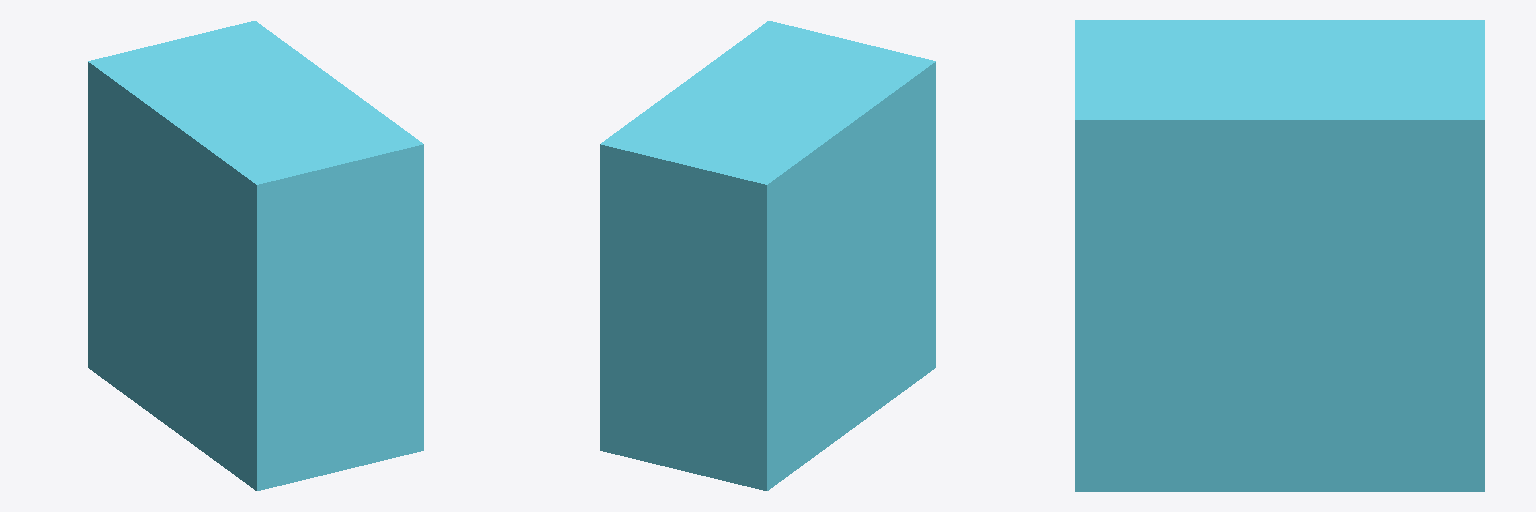
robot.urdf — panda:
<?xml version='1.0' encoding='utf-8'?>
<robot name="panda">

    <link name="link0">
      <inertial>
        <origin xyz="0 0 0.05" rpy="0 0 0" />
        <mass value="4" />
        <inertia ixx="0.4" iyy="0.4" izz="0.4" ixy="0" ixz="0" iyz="0" />
      </inertial>
      <visual>
        <geometry>
          <mesh filename="../../../Model/meshes/visual/link0.obj"/>
        </geometry>
      </visual>
<!--       <collision>
        <geometry>
          <mesh filename="../../../Model/meshes/collision/link0.obj"/>
        </geometry>
      </collision> -->
    </link>
    <link name="link1">
      <inertial>
        <origin xyz="0 0 -0.07" rpy="0 -0 0" />
        <mass value="3" />
        <inertia ixx="0.3" iyy="0.3" izz="0.3" ixy="0" ixz="0" iyz="0" />
      </inertial>
      <visual>
        <geometry>
          <mesh filename="../../../Model/meshes/visual/link1.obj"/>
        </geometry>
      </visual>
      <!-- <collision>
        <geometry>
          <mesh filename="../../../Model/meshes/collision/link1.obj"/>
        </geometry>
      </collision> -->
    </link>
    <link name="link2">
      <inertial>
        <origin xyz="0 -0.1 0" rpy="0 -0 0" />
        <mass value="3" />
        <inertia ixx="0.3" iyy="0.3" izz="0.3" ixy="0" ixz="0" iyz="0" />
      </inertial>
      <visual>
        <geometry>
          <mesh filename="../../../Model/meshes/visual/link2.obj"/>
        </geometry>
      </visual>
      <!-- <collision>
        <geometry>
          <mesh filename="../../../Model/meshes/collision/link2.obj"/>
        </geometry>
      </collision> -->
    </link>
    <link name="link3">
      <inertial>
        <origin xyz="0.04 0 -0.05" rpy="0 -0 0" />
        <mass value="2" />
        <inertia ixx="0.2" iyy="0.2" izz="0.2" ixy="0" ixz="0" iyz="0" />
      </inertial>
      <visual>
        <geometry>
          <mesh filename="../../../Model/meshes/visual/link3.obj"/>
        </geometry>
      </visual>
      <!-- <collision>
        <geometry>
          <mesh filename="../../../Model/meshes/collision/link3.obj"/>
        </geometry>
      </collision> -->
    </link>
    <link name="link4">
      <inertial>
        <origin xyz="-0.04 0.05 0" rpy="0 -0 0" />
        <mass value="2" />
        <inertia ixx="0.2" iyy="0.2" izz="0.2" ixy="0" ixz="0" iyz="0" />
      </inertial>
      <visual>
        <geometry>
          <mesh filename="../../../Model/meshes/visual/link4.obj"/>
        </geometry>
      </visual>
<!--       <collision>
        <geometry>
          <mesh filename="../../../Model/meshes/collision/link4.obj"/>
        </geometry>
      </collision> -->
    </link>
    <link name="link5">
      <inertial>
        <origin xyz="0 0 -0.15" rpy="0 -0 0" />
        <mass value="2" />
        <inertia ixx="0.2" iyy="0.2" izz="0.2" ixy="0" ixz="0" iyz="0" />
      </inertial>
      <visual>
        <geometry>
          <mesh filename="../../../Model/meshes/visual/link5.obj"/>
        </geometry>
      </visual>
<!--       <collision>
        <geometry>
          <mesh filename="../../../Model/meshes/collision/link5.obj"/>
        </geometry>
      </collision> -->
    </link>
    <link name="link6">
      <inertial>
        <origin xyz="0.06 0 0" rpy="0 -0 0" />
        <mass value="1.5" />
        <inertia ixx="0.1" iyy="0.1" izz="0.1" ixy="0" ixz="0" iyz="0" />
      </inertial>
      <visual>
        <geometry>
          <mesh filename="../../../Model/meshes/visual/link6.obj"/>
        </geometry>
      </visual>
      <!-- <collision>
        <geometry>
          <mesh filename="../../../Model/meshes/collision/link6.obj"/>
        </geometry>
      </collision> -->
    </link>
    <link name="link7">
      <inertial>
        <origin xyz="0 0 0.17" rpy="0 -0 0" />
        <mass value="1.8" />
        <inertia ixx="0.09" iyy="0.05" izz="0.07" ixy="0" ixz="0" iyz="0" />
      </inertial>
      <visual>
        <geometry>
          <mesh filename="../../../Model/meshes/visual/link7.obj"/>
        </geometry>
      </visual>
      <visual>
        <origin xyz="0 0 0.12" rpy="0 0 0" />
        <geometry>
          <box size="0.07 0.07 0.04"/>
        </geometry>
        <material name="material_blue">
            <color rgba="0.50 0.92 1.00 1.0" />
          </material>
      </visual>
      <collision >
        <origin xyz="0 0 0.12" rpy="0 0 0" />
        <geometry>
          <box size="0.07 0.07 0.04"/>
        </geometry>
      </collision>
      <!-- <collision>
        <geometry>
          <mesh filename="../../../Model/meshes/collision/link7.obj"/>
        </geometry>
      </collision> -->
    </link>
    <joint name="joint1" type="revolute">
      <safety_controller k_position="100.0" k_velocity="40.0" soft_lower_limit="-2.8973" soft_upper_limit="2.8973"/>
      <origin rpy="0 0 0" xyz="0 0 0.333"/>
      <parent link="link0"/>
      <child link="link1"/>
      <axis xyz="0 0 1"/>
      <limit effort="87" lower="-2.8973" upper="2.8973" velocity="2.1750"/>
    </joint>
    <joint name="joint2" type="revolute">
      <safety_controller k_position="100.0" k_velocity="40.0" soft_lower_limit="-1.7628" soft_upper_limit="1.7628"/>
      <origin rpy="-1.57079632679 0 0" xyz="0 0 0"/>
      <parent link="link1"/>
      <child link="link2"/>
      <axis xyz="0 0 1"/>
      <calibration falling="30.0" />
      <limit effort="87" lower="-1.7628" upper="1.7628" velocity="2.1750"/>
    </joint>
    <joint name="joint3" type="revolute">
      <safety_controller k_position="100.0" k_velocity="40.0" soft_lower_limit="-2.8973" soft_upper_limit="2.8973"/>
      <origin rpy="1.57079632679 0 0" xyz="0 -0.316 0"/>
      <parent link="link2"/>
      <child link="link3"/>
      <axis xyz="0 0 1"/>
      <limit effort="87" lower="-2.8973" upper="2.8973" velocity="2.1750"/>
    </joint>
    <joint name="joint4" type="revolute">
      <safety_controller k_position="100.0" k_velocity="40.0" soft_lower_limit="-3.0718" soft_upper_limit="-0.0698"/>
      <origin rpy="1.57079632679 0 0" xyz="0.0825 0 0"/>
      <parent link="link3"/>
      <child link="link4"/>
      <axis xyz="0 0 1"/>
      <calibration falling="-90.0" />
      <limit effort="87" lower="-3.0718" upper="-0.0698" velocity="2.1750"/>
    </joint>
    <joint name="joint5" type="revolute">
      <safety_controller k_position="100.0" k_velocity="40.0" soft_lower_limit="-2.8973" soft_upper_limit="2.8973"/>
      <origin rpy="-1.57079632679 0 0" xyz="-0.0825 0.384 0"/>
      <parent link="link4"/>
      <child link="link5"/>
      <axis xyz="0 0 1"/>
      <limit effort="12" lower="-2.8973" upper="2.8973" velocity="2.6100"/>
    </joint>
    <joint name="joint6" type="revolute">
      <safety_controller k_position="100.0" k_velocity="40.0" soft_lower_limit="-0.0175" soft_upper_limit="3.7525"/>
      <origin rpy="1.57079632679 0 0" xyz="0 0 0"/>
      <parent link="link5"/>
      <child link="link6"/>
      <axis xyz="0 0 1"/>
      <calibration falling="120.0" />
      <limit effort="12" lower="-0.0175" upper="3.7525" velocity="2.6100"/>
    </joint>
    <joint name="joint7" type="revolute">
      <safety_controller k_position="100.0" k_velocity="40.0" soft_lower_limit="-2.8973" soft_upper_limit="2.8973"/>
      <origin rpy="1.57079632679 0 0" xyz="0.088 0 0"/>
      <parent link="link6"/>
      <child link="link7"/>
      <axis xyz="0 0 1"/>
      <limit effort="12" lower="-2.8973" upper="2.8973" velocity="2.6100"/>
    </joint>
</robot>

--- Facts derived from the render (not from the file) ---
The picture shows the robot from 3 angles, left to right: view 1: azimuth 30°, elevation 25°; view 2: azimuth 150°, elevation 25°; view 3: azimuth 270°, elevation 25°; orthographic projection.
Model panda with 8 links and 7 joints (7 revolute), rooted at link0, posed all joints at 0 but 1 set to mid-range because 0 is outside their limits (joint4 = -1.57).
Links seen in each view (by area): view 1: link7; view 2: link7; view 3: link7.
Boxes of the visible links, x1,y1,x2,y2 form: link7: (88, 21, 423, 490); link7: (600, 21, 935, 490); link7: (1075, 20, 1484, 491).
Bounding box of the posed robot: 0.04 × 0.07 × 0.07 m (x, y, z).
Geometry: only primitive shapes (box / cylinder / sphere) drawn; not drawn: 8 mesh visuals (reference in a form the renderer does not follow).